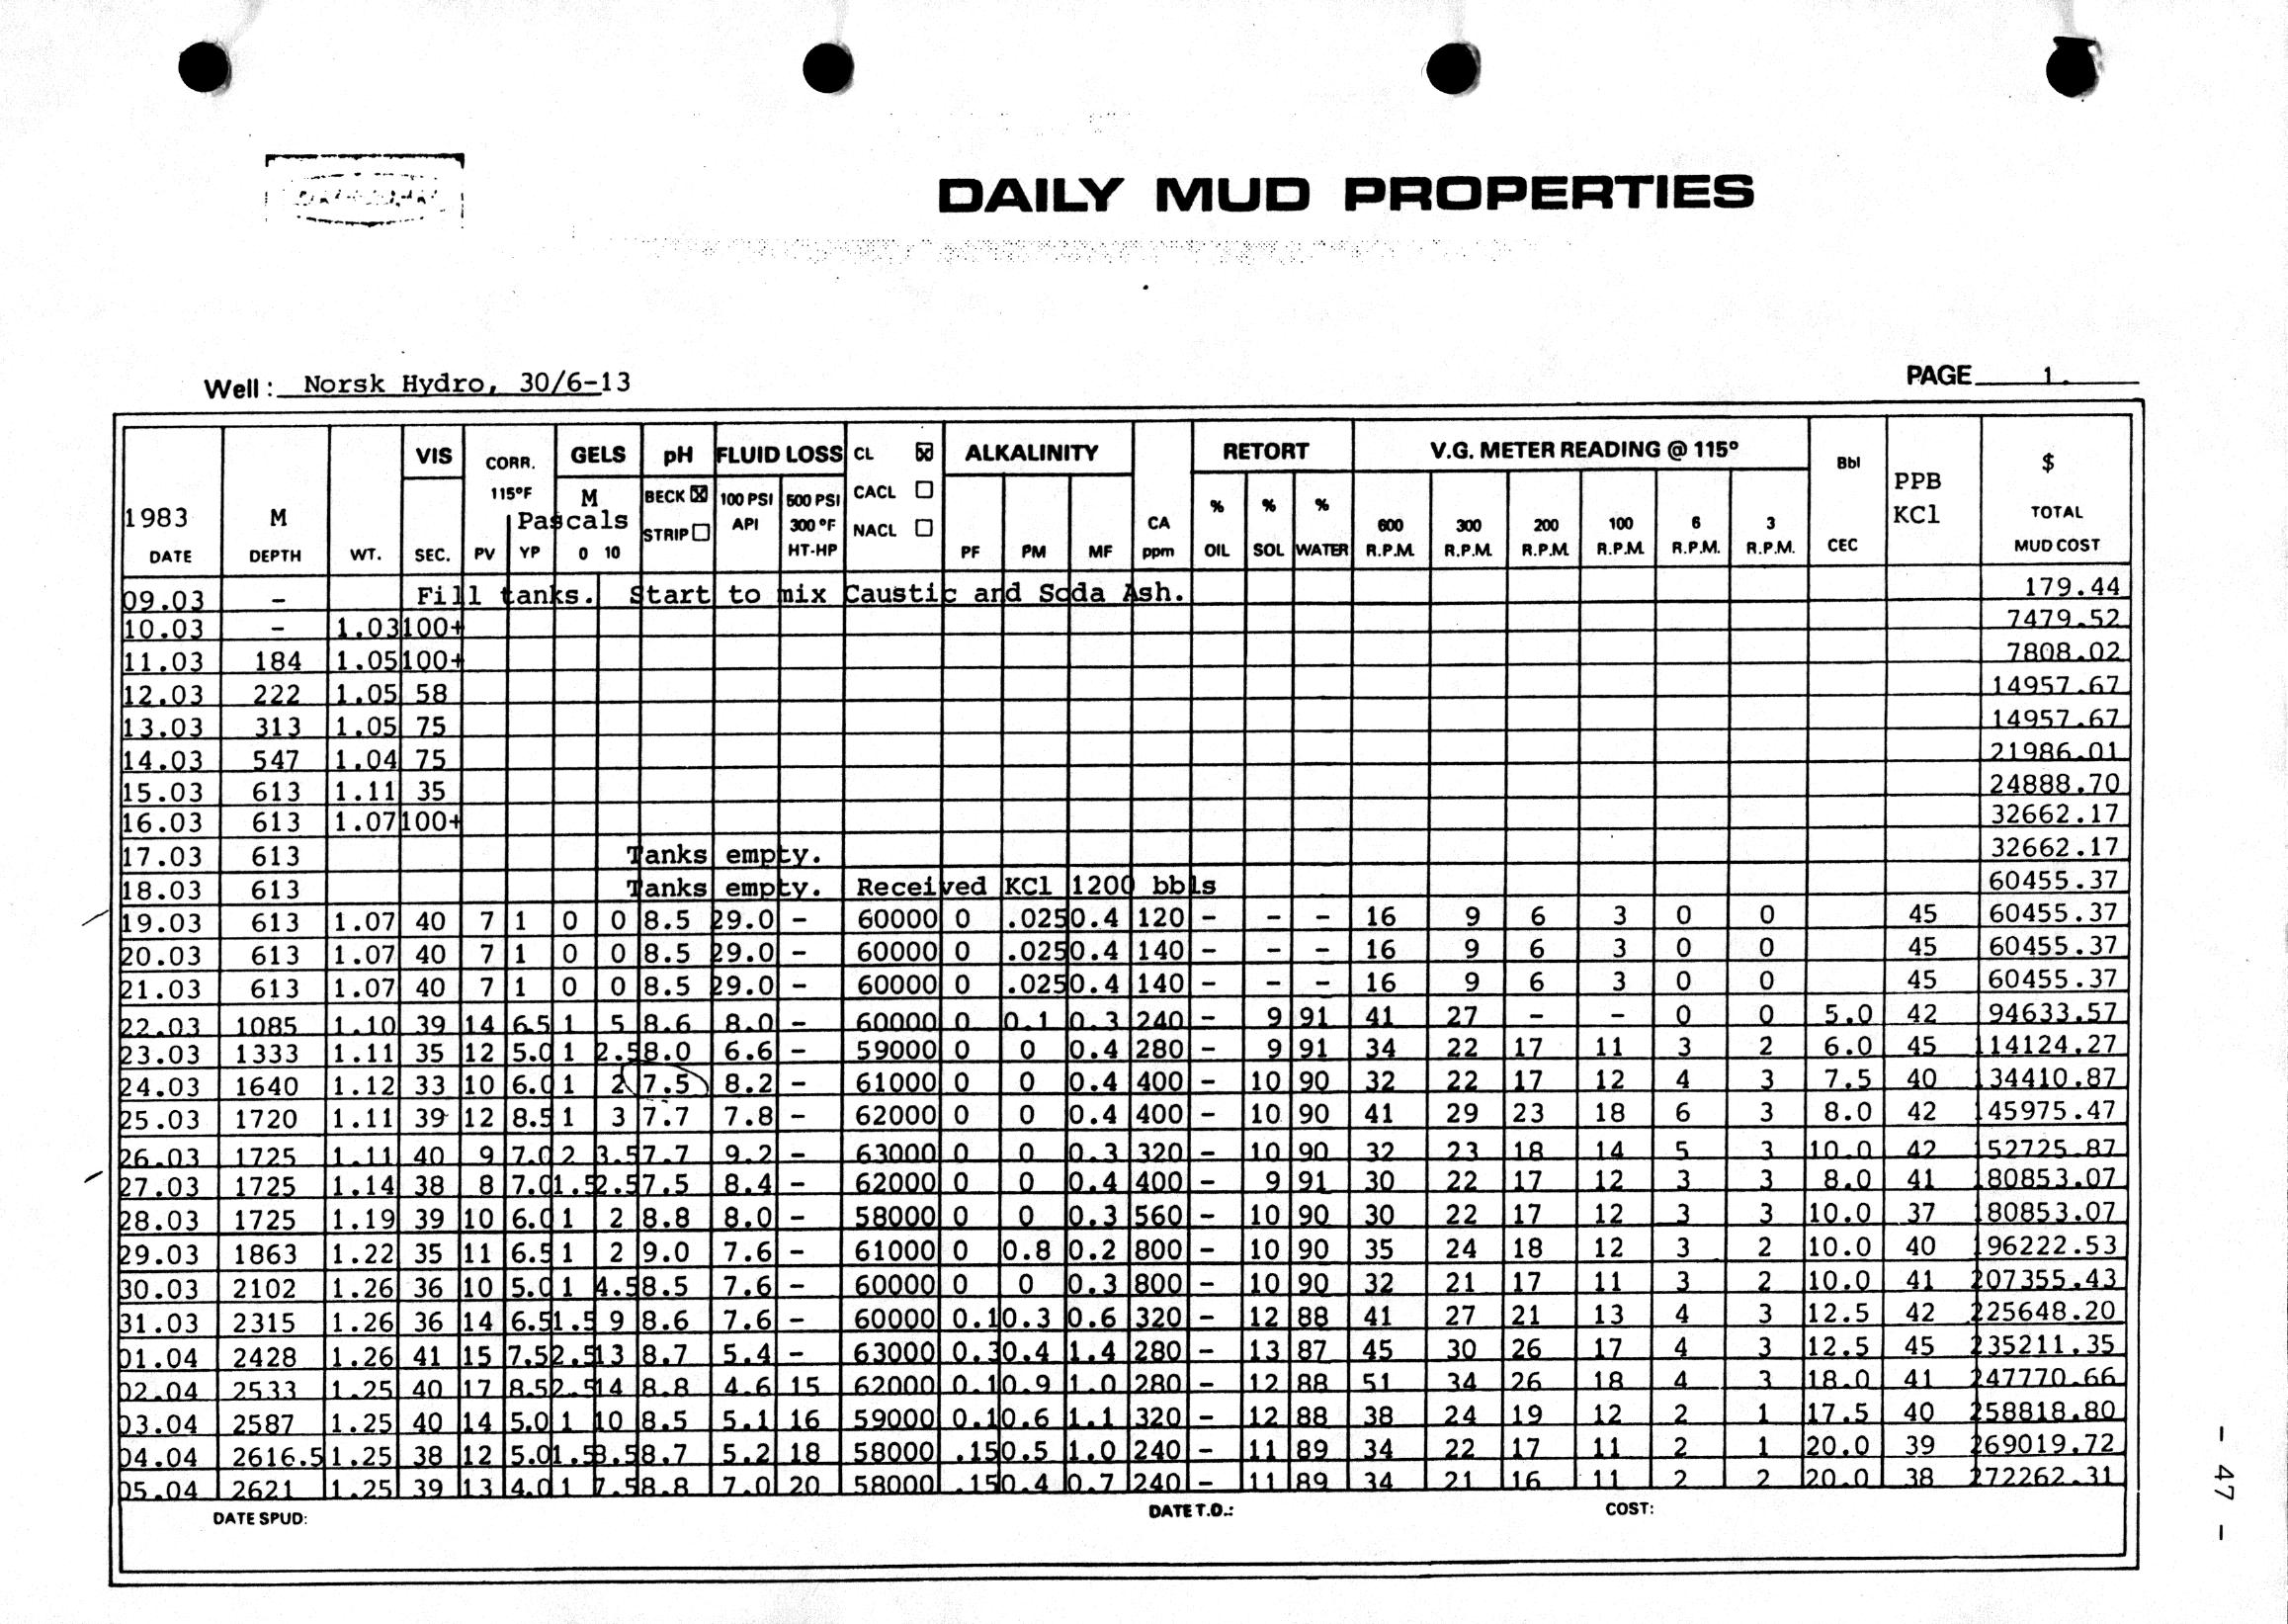table: (107, 406, 2139, 1561)
text: (909, 169, 1785, 227), (204, 371, 640, 402)
undefined: (241, 139, 525, 257)
